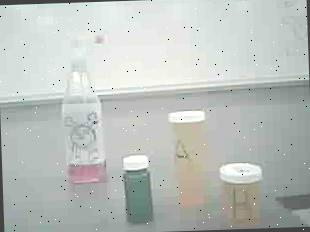Bottle A: (163, 106, 218, 210)
Bottle B: (218, 163, 267, 227)
Bottle C: (119, 154, 158, 224)
hazard: (58, 29, 114, 188)
